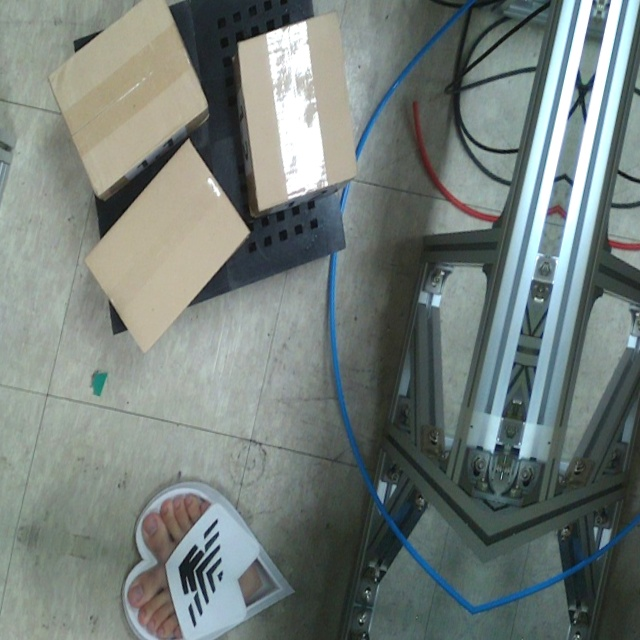box: (81, 137, 250, 354), (46, 0, 209, 196), (234, 10, 359, 210)
